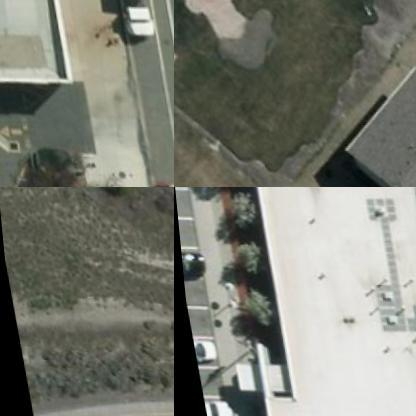car: (178, 255, 204, 286), (188, 340, 208, 363), (198, 400, 225, 415)
